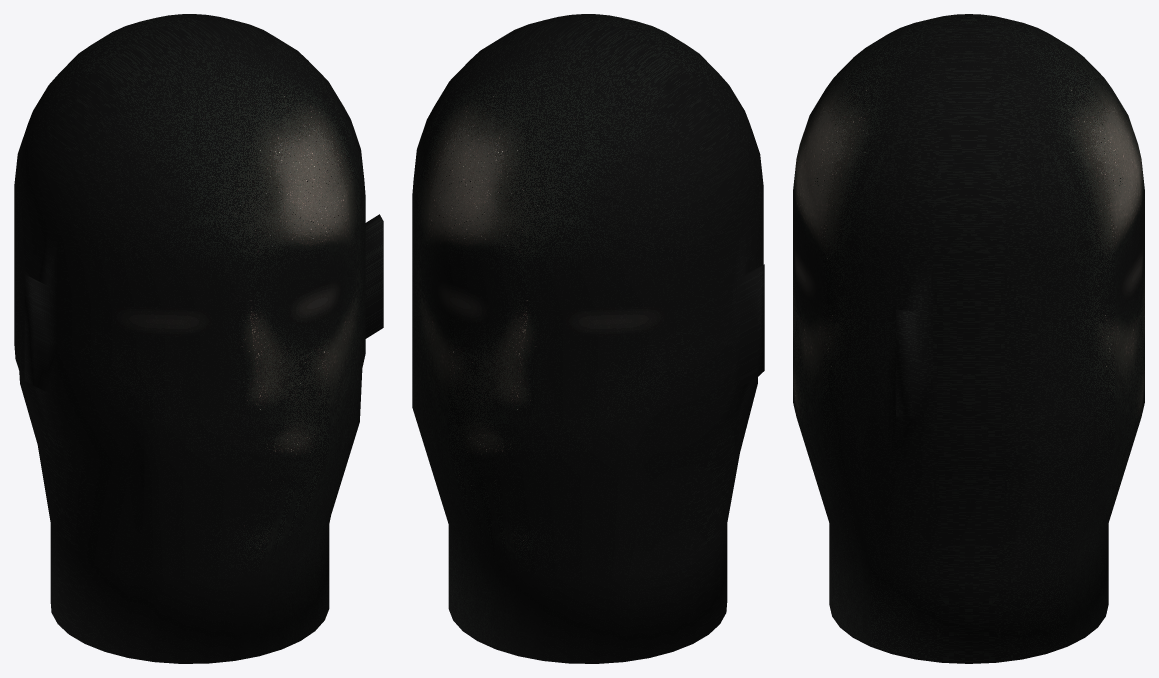
3 views of the same model, side by side, from view 1: azimuth 30°, elevation 25°; view 2: azimuth 150°, elevation 25°; view 3: azimuth 270°, elevation 25° (orthographic).
Visible parts, largest first — view 1: Sphere; view 2: Sphere; view 3: Sphere.
Part boxes in pixels (box(x1,y1,x2,y2)): Sphere: box(14, 14, 383, 663); Sphere: box(412, 14, 764, 663); Sphere: box(793, 14, 1144, 663).
Bounding box in the file's own units: 0.3237 × 0.5408 × 0.3.
Materials: 1 (1 with a texture image).
